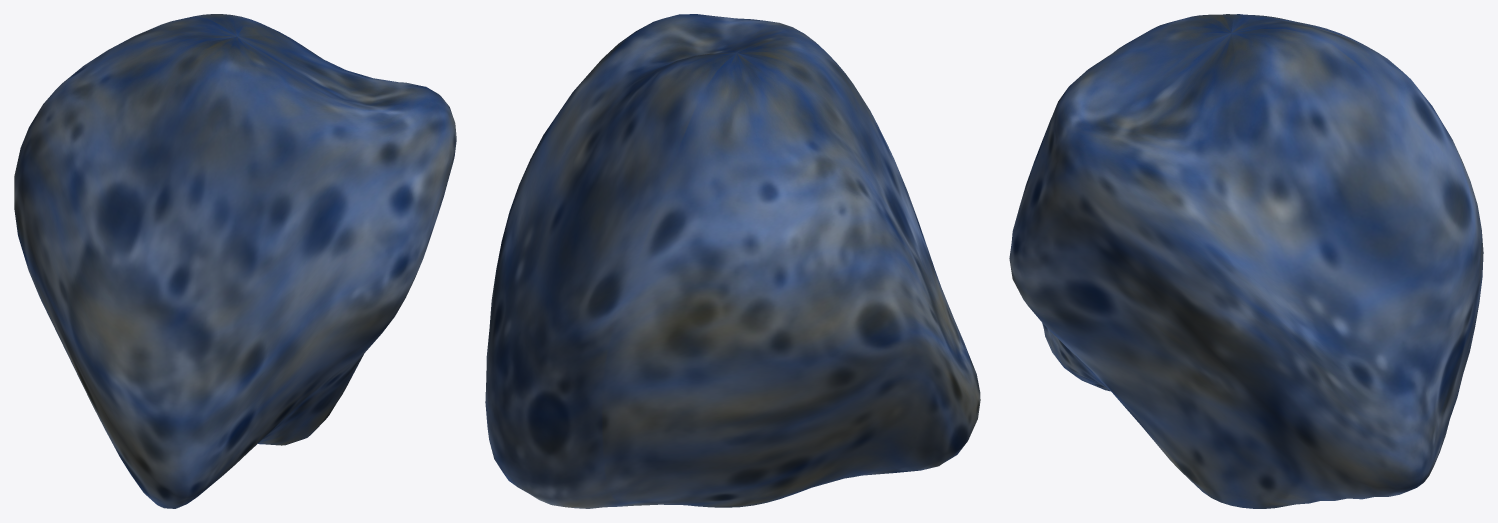
The model's file is Asteroid1.FBX.
3 views of the same model, side by side, from view 1: azimuth 30°, elevation 25°; view 2: azimuth 150°, elevation 25°; view 3: azimuth 270°, elevation 25° (orthographic). The views are drawn at different scales.
Parts seen in each view (by area): view 1: Sphere01; view 2: Sphere01; view 3: Sphere01.
Part boxes in pixels (x1,y1,x2,y2): Sphere01: (14, 14, 456, 508); Sphere01: (485, 14, 980, 508); Sphere01: (1009, 14, 1483, 508).
Bounding box in the file's own units: 119 × 120 × 125.
Materials: 1 (1 with a texture image).
